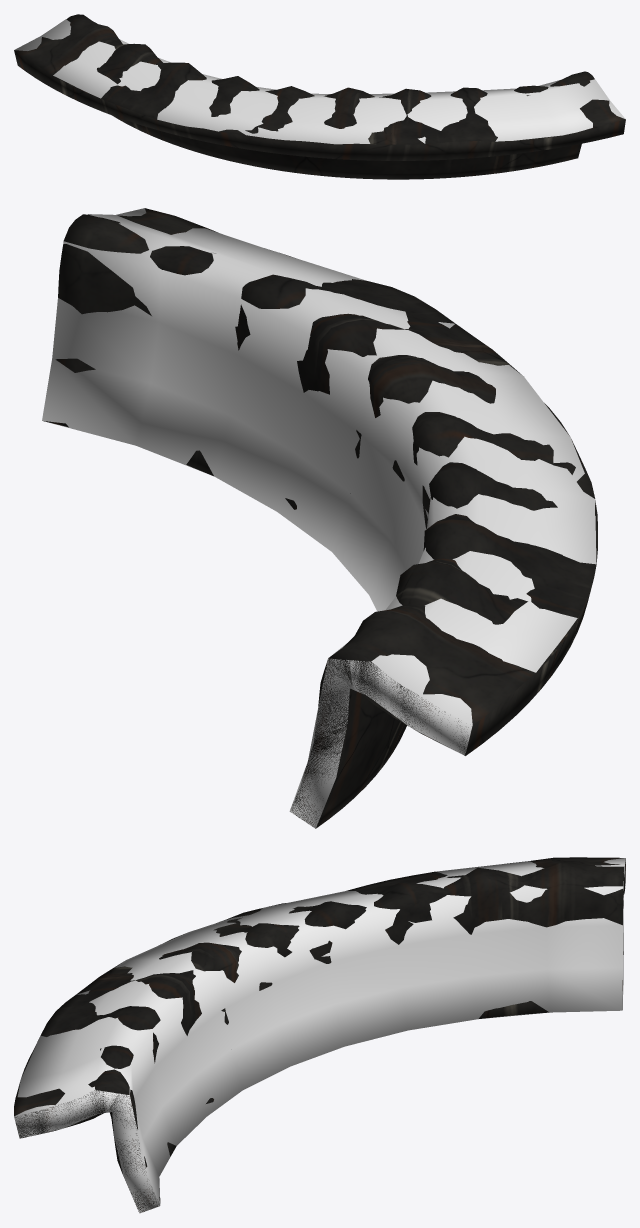
Rendered from CAVE_PoolRim.fbx.
3 views of the same model, one above another, from view 1: azimuth 30°, elevation 25°; view 2: azimuth 150°, elevation 25°; view 3: azimuth 270°, elevation 25° (orthographic). The views are drawn at different scales.
Parts seen in each view (by area): view 1: CAVE_PoolRim_LOD0, CAVE_PoolRim_COL; view 2: CAVE_PoolRim_COL, CAVE_PoolRim_LOD0; view 3: CAVE_PoolRim_COL, CAVE_PoolRim_LOD0.
Part boxes in pixels (x1,y1,x2,y2): CAVE_PoolRim_LOD0: (14,14,625,179); CAVE_PoolRim_COL: (15,19,625,144); CAVE_PoolRim_COL: (42,208,596,828); CAVE_PoolRim_LOD0: (43,208,597,828); CAVE_PoolRim_COL: (14,858,625,1213); CAVE_PoolRim_LOD0: (14,857,625,1212).
Size of what is drawn, in the model's own units: 10.32 by 2.47 by 10.32.
